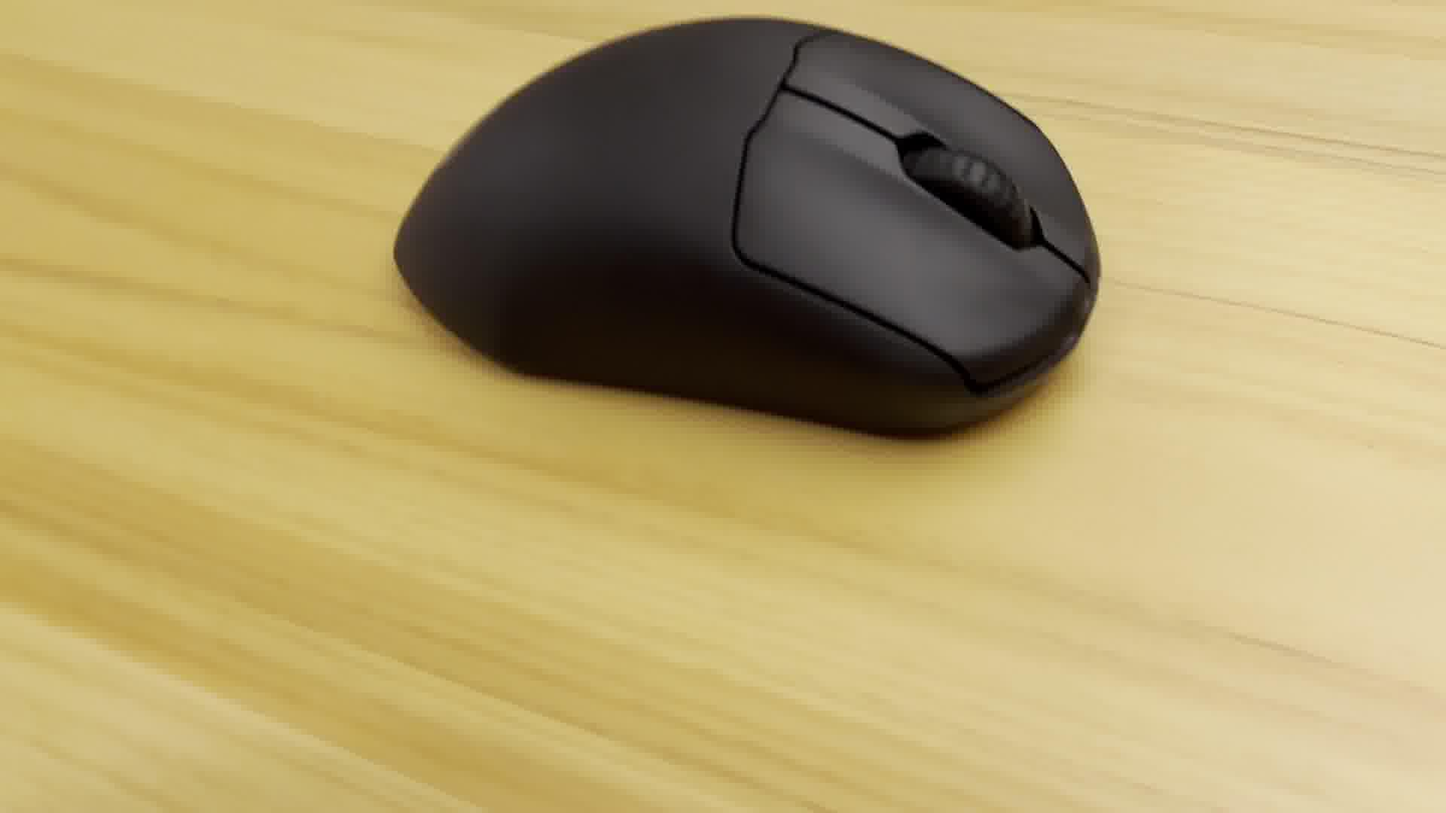steel-series: (382, 14, 1122, 463)
